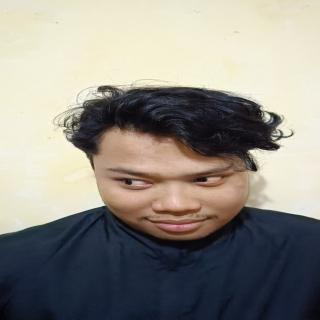Takut: (85, 116, 266, 248)
